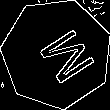M_SW: (23, 21, 90, 87)
